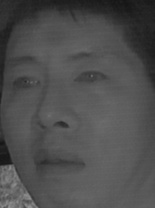eye: (73, 66, 110, 88), (10, 74, 42, 93)
mouth: (31, 147, 90, 176)
